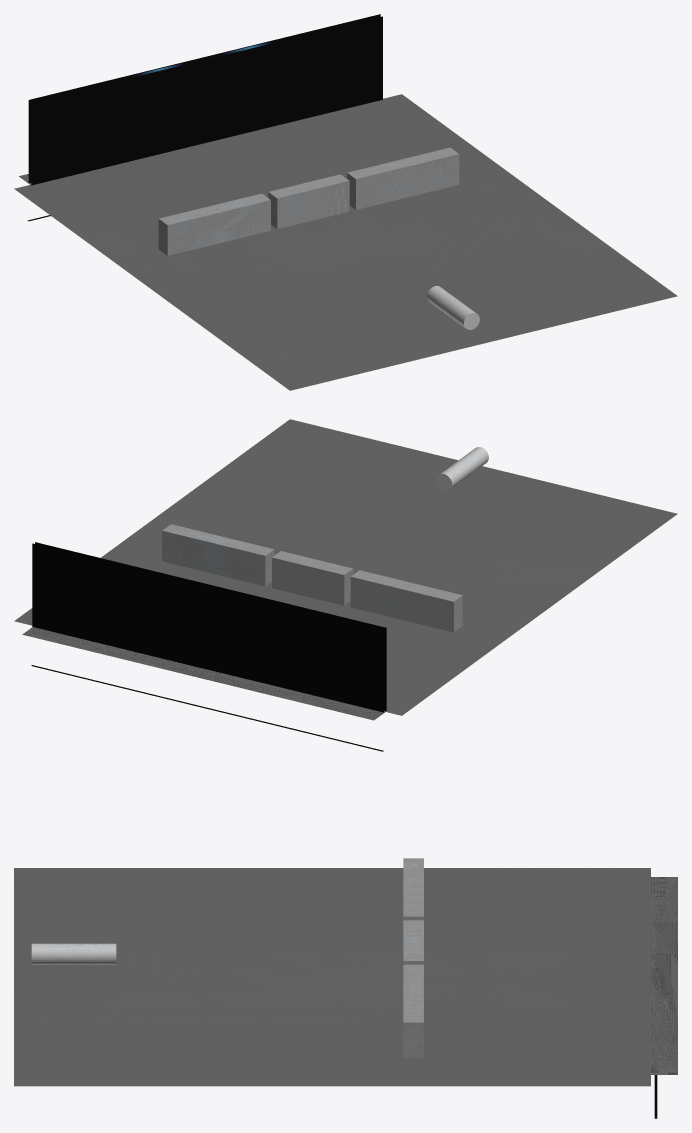
The model's file is ExperimentRoom.dae.
3 renders of one model, top to bottom at view 1: azimuth 30°, elevation 25°; view 2: azimuth 150°, elevation 25°; view 3: azimuth 270°, elevation 25°, orthographic. The views are drawn at different scales.
Visible parts, largest first — view 1: group_4, ID72, SketchUp, ID72-copy, ID41; view 2: group_4, ID72-copy, SketchUp, ID86, ID72, ID41, ID62; view 3: group_4, ID86, SketchUp, ID41.
Part boxes in pixels (left/top/right/bottom): group_4: left=14, top=94, right=677, bottom=390; ID72: left=31, top=16, right=382, bottom=185; SketchUp: left=158, top=147, right=459, bottom=255; ID72-copy: left=28, top=14, right=380, bottom=182; ID41: left=427, top=286, right=476, bottom=327; group_4: left=14, top=419, right=677, bottom=715; ID72-copy: left=32, top=543, right=384, bottom=712; SketchUp: left=162, top=524, right=462, bottom=632; ID86: left=22, top=627, right=384, bottom=720; ID72: left=35, top=542, right=386, bottom=710; ID41: left=436, top=447, right=488, bottom=490; ID62: left=31, top=665, right=383, bottom=751; group_4: left=14, top=868, right=650, bottom=1086; ID86: left=651, top=877, right=677, bottom=1074; SketchUp: left=403, top=858, right=423, bottom=1058; ID41: left=31, top=943, right=116, bottom=964.
Size of the model in its own units: 286 by 367 by 85.49.
